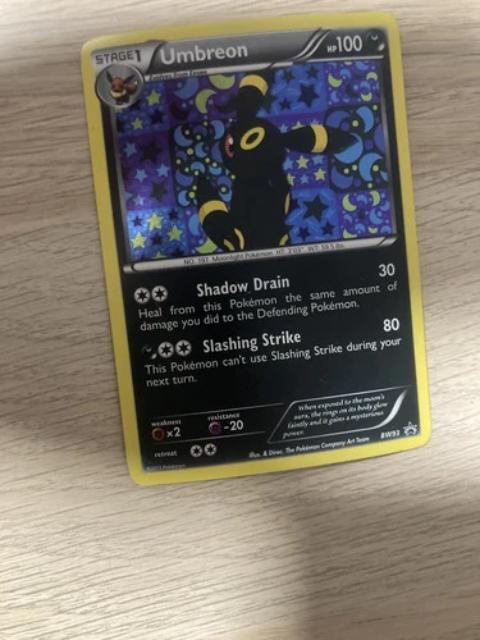Card: (78, 10, 433, 491)
Name: (152, 37, 248, 69)
